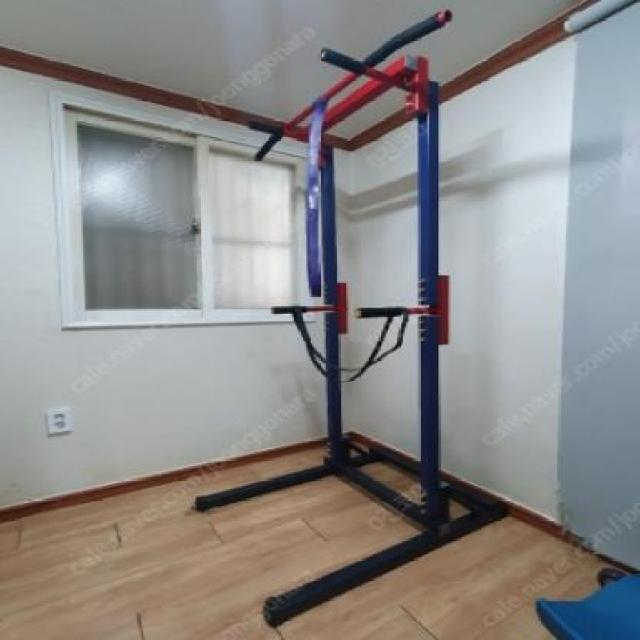chinning dipping: (192, 8, 517, 628)
